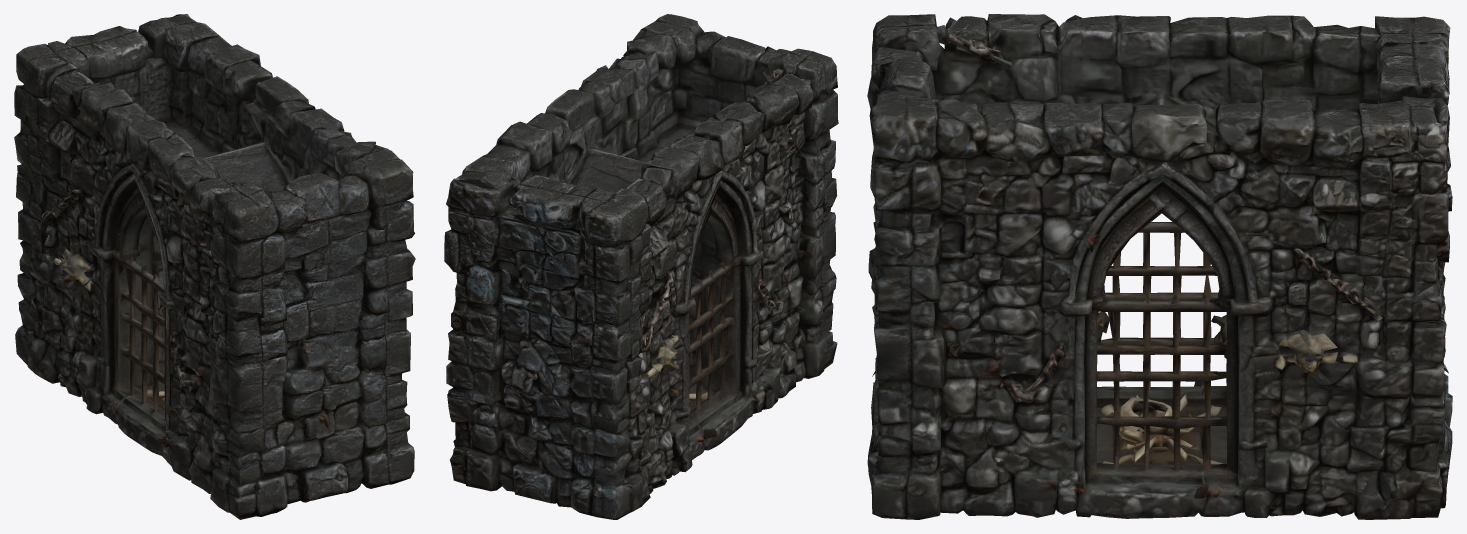
File: prison_bay.glb
3 views of the same model, side by side, from view 1: azimuth 30°, elevation 25°; view 2: azimuth 150°, elevation 25°; view 3: azimuth 270°, elevation 25° (orthographic). The views are drawn at different scales.
Parts seen in each view (by area): view 1: tripo_node_c3d8ad91-199b-4472-a05a-d73cb3cc749f; view 2: tripo_node_c3d8ad91-199b-4472-a05a-d73cb3cc749f; view 3: tripo_node_c3d8ad91-199b-4472-a05a-d73cb3cc749f.
Part boxes in pixels (x1,y1,x2,y2): tripo_node_c3d8ad91-199b-4472-a05a-d73cb3cc749f: (14, 14, 415, 519); tripo_node_c3d8ad91-199b-4472-a05a-d73cb3cc749f: (444, 14, 838, 519); tripo_node_c3d8ad91-199b-4472-a05a-d73cb3cc749f: (867, 14, 1452, 519).
Bounding box in the file's own units: 0.4855 × 0.7608 × 1.
Materials: 1 (1 with a texture image).
